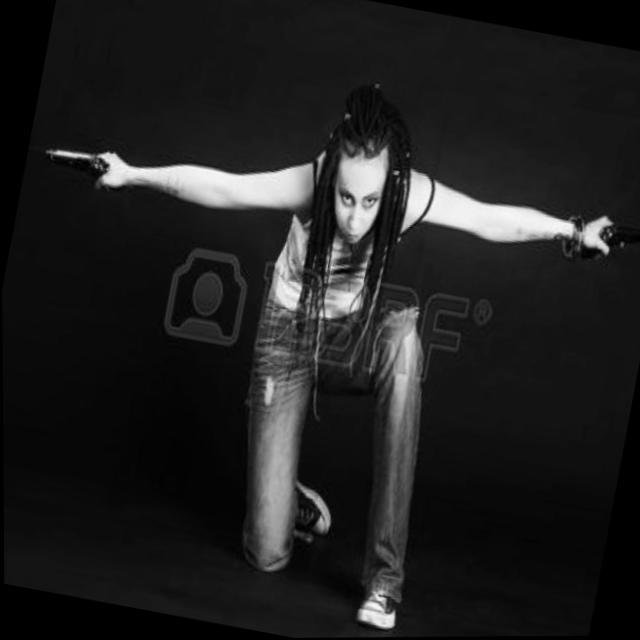weapon: (10, 29, 640, 640), (41, 142, 112, 184)
